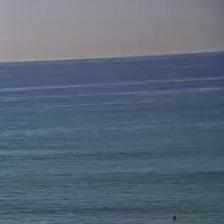surfer: (172, 215, 177, 221)
